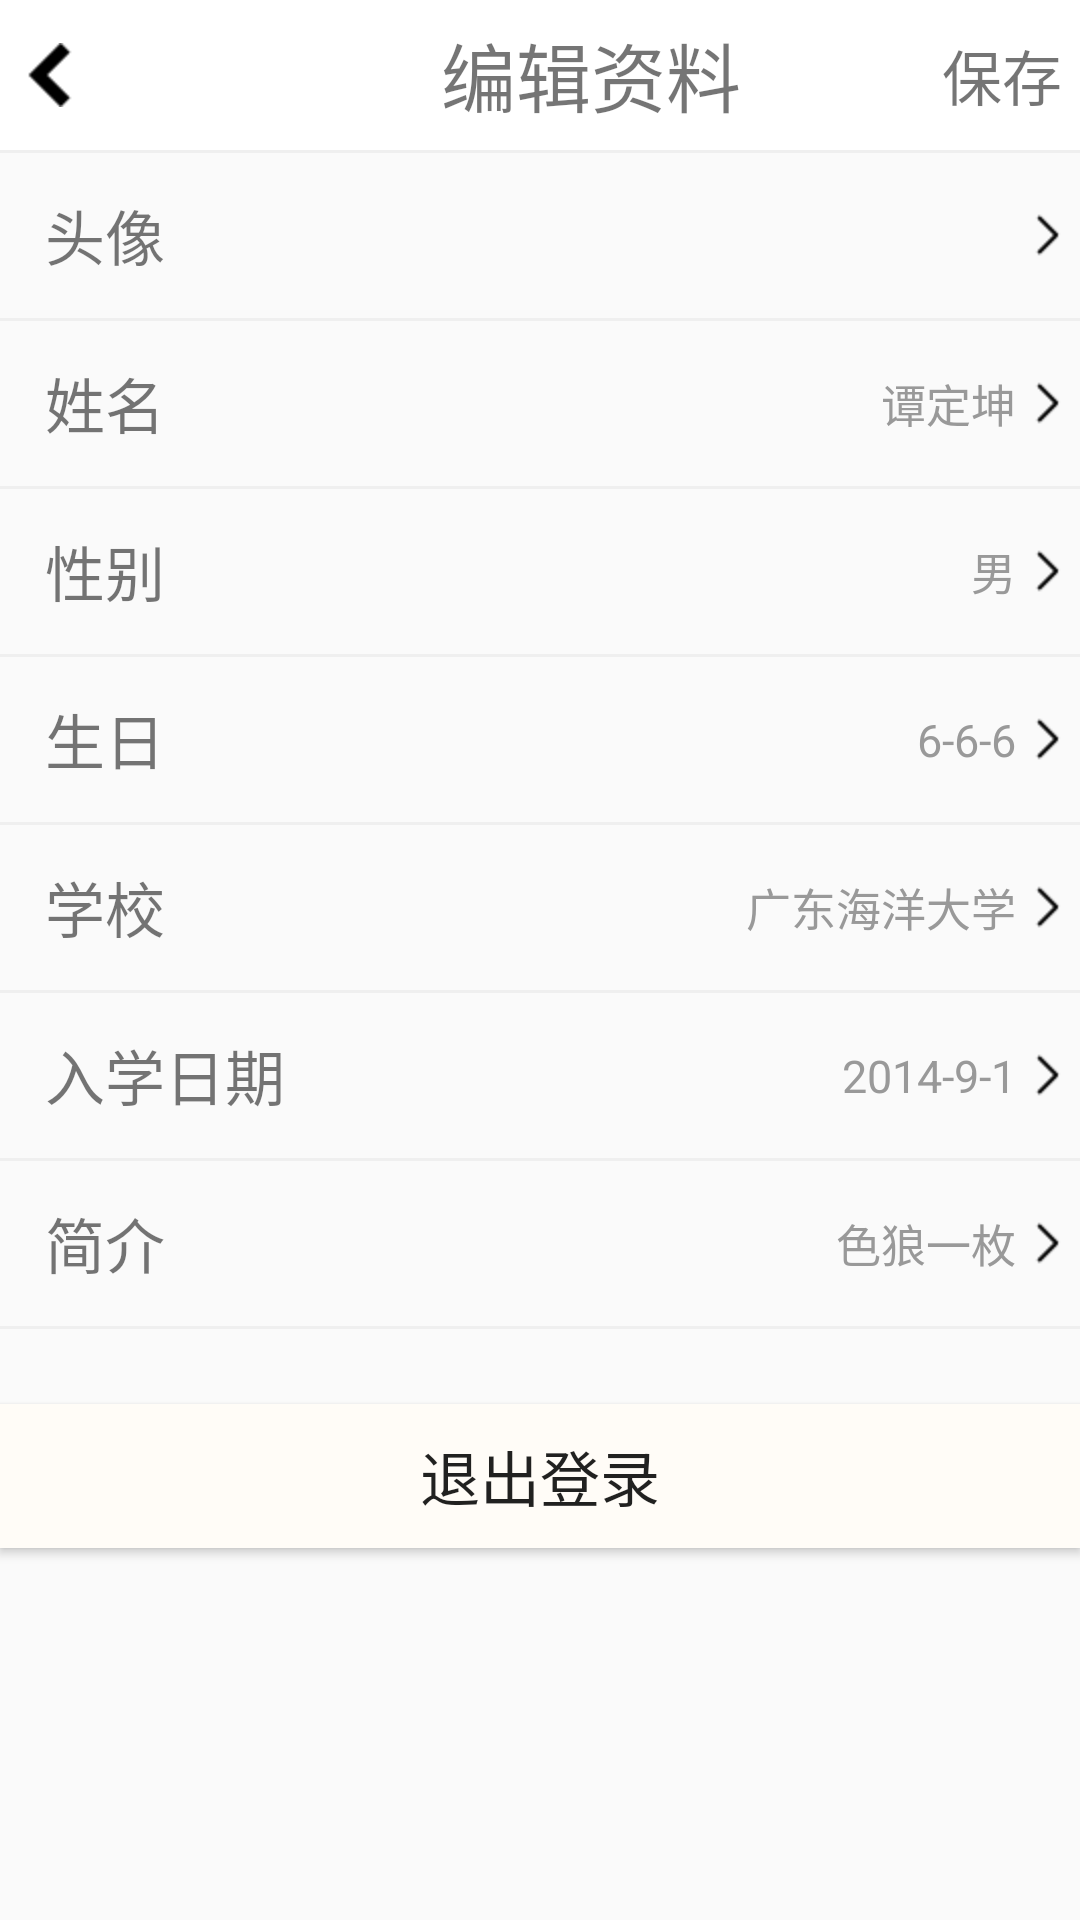

Where icons sit on this 1080px×1920px app screen, as (x1, y1, x2, y2):
back: (28, 43, 71, 107)
enter: (1036, 215, 1059, 255), (1036, 383, 1059, 423), (1036, 551, 1059, 591), (1036, 719, 1059, 759), (1036, 887, 1059, 927), (1036, 1055, 1059, 1095), (1036, 1223, 1059, 1263)
